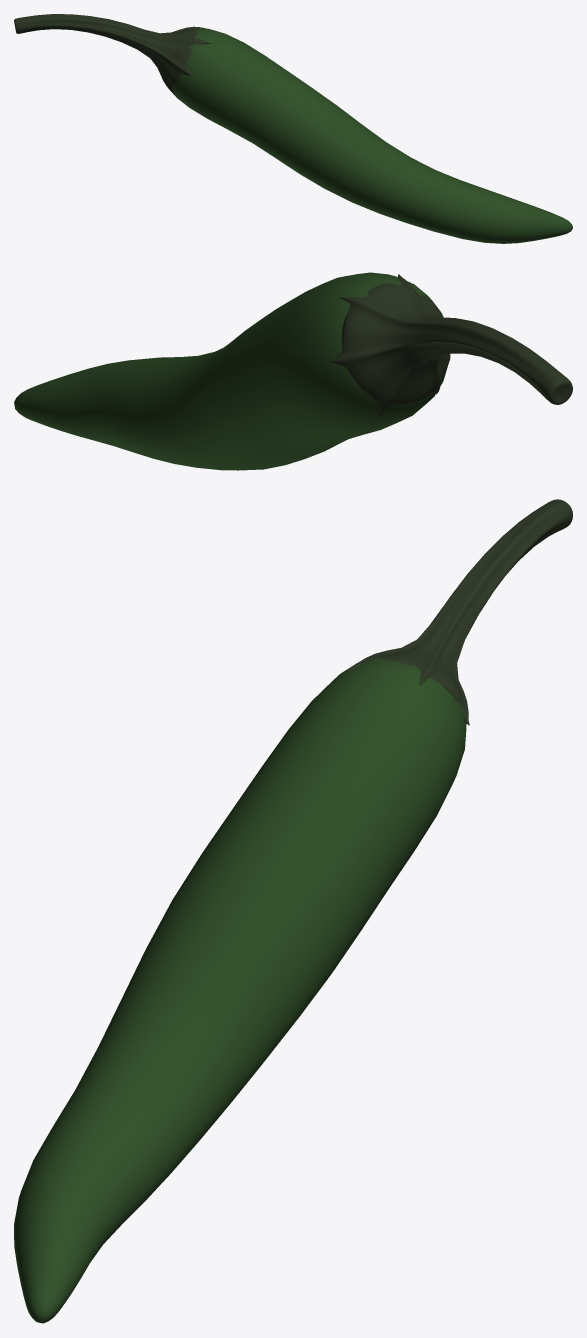
The model's file is Cabe.glb.
3 renders of one model, top to bottom at view 1: azimuth 30°, elevation 25°; view 2: azimuth 150°, elevation 25°; view 3: azimuth 270°, elevation 25°, orthographic. The views are drawn at different scales.
Parts seen in each view (by area): view 1: Cabe_GLB; view 2: Cabe_GLB; view 3: Cabe_GLB.
Boxes of the visible parts, box(x1,y1,x2,y2) form: Cabe_GLB: box(14, 14, 572, 243); Cabe_GLB: box(14, 272, 572, 470); Cabe_GLB: box(14, 499, 572, 1323).
Bounding box in the file's own units: 0.3078 × 0.1528 × 0.179.
